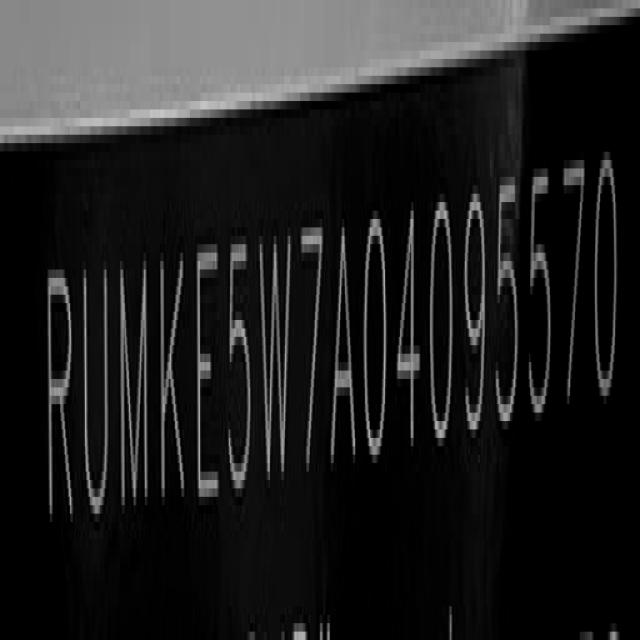0: (428, 193, 456, 452), (362, 209, 388, 471), (593, 150, 619, 408)
4: (396, 199, 423, 462)
5: (227, 231, 254, 527), (528, 153, 554, 427), (495, 165, 521, 437)
7: (560, 140, 588, 430), (299, 215, 325, 480)
9: (463, 181, 487, 443)
A: (329, 209, 358, 483)
E: (194, 225, 224, 527)
K: (156, 237, 188, 518)
M: (117, 247, 151, 527)
R: (46, 247, 78, 527)
U: (83, 237, 112, 518)
W: (253, 218, 294, 499)
